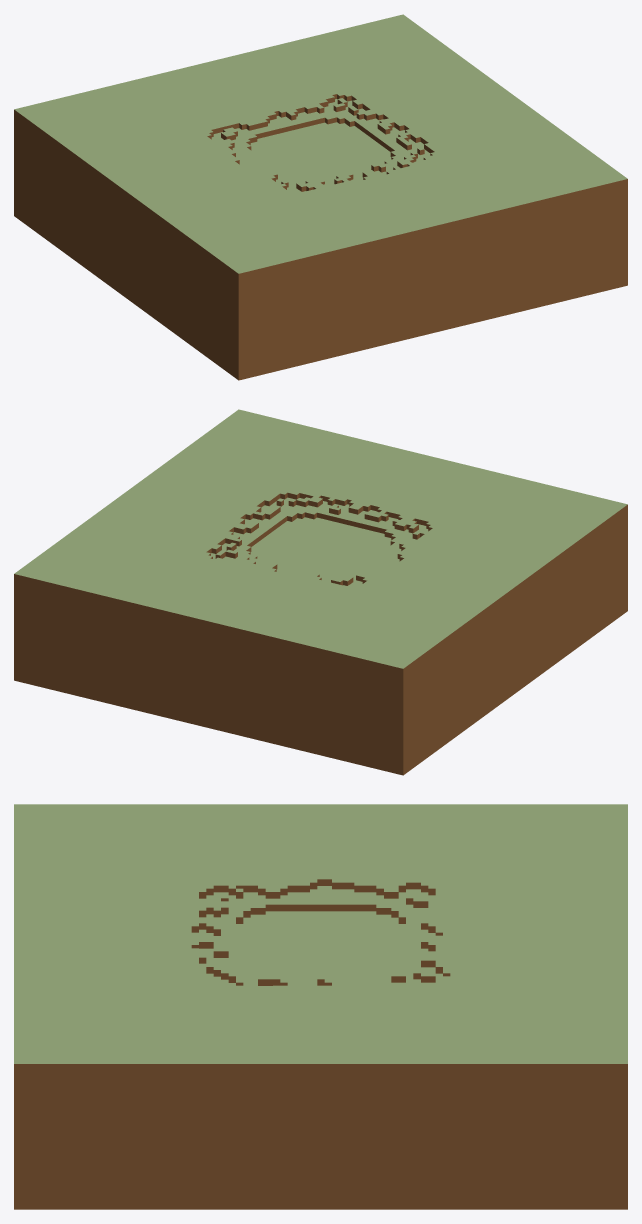
File: Level1_platform_bg.fbx
3 renders of one model, top to bottom at view 1: azimuth 30°, elevation 25°; view 2: azimuth 150°, elevation 25°; view 3: azimuth 270°, elevation 25°, orthographic. The views are drawn at different scales.
Visible parts, largest first — view 1: Cube.001; view 2: Cube.001; view 3: Cube.001.
Part boxes in pixels (bbox=[...]): Cube.001: bbox=[14, 14, 627, 380]; Cube.001: bbox=[14, 409, 627, 775]; Cube.001: bbox=[14, 804, 627, 1209].
Size of the model in its own units: 8400 by 2200 by 8400.
